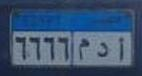6: (42, 35, 55, 64), (28, 34, 41, 63), (15, 34, 27, 62), (57, 35, 69, 62)
alif: (115, 35, 125, 63)
daal: (96, 41, 109, 62)
meem: (78, 36, 90, 62)
